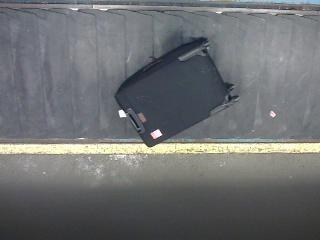Suitcase: (113, 33, 240, 148)
